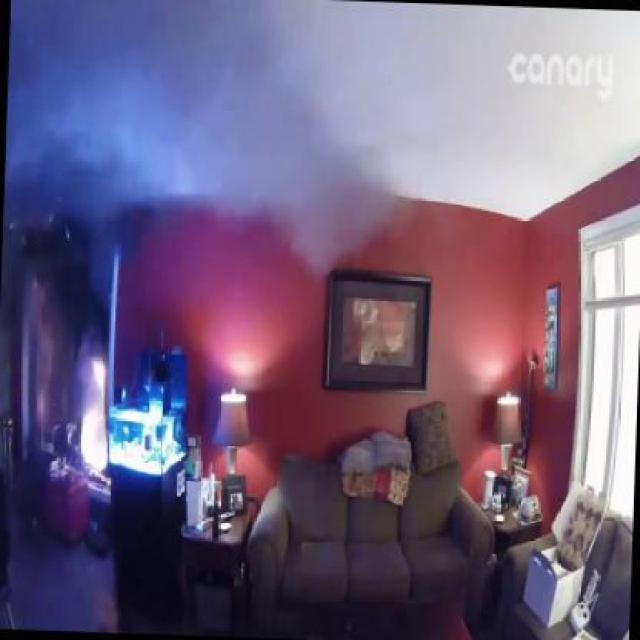fire: (9, 0, 411, 277)
